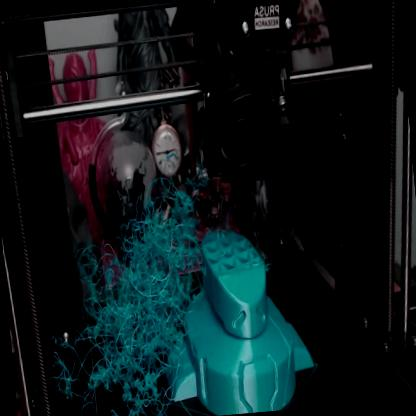fail: (35, 174, 215, 416)
